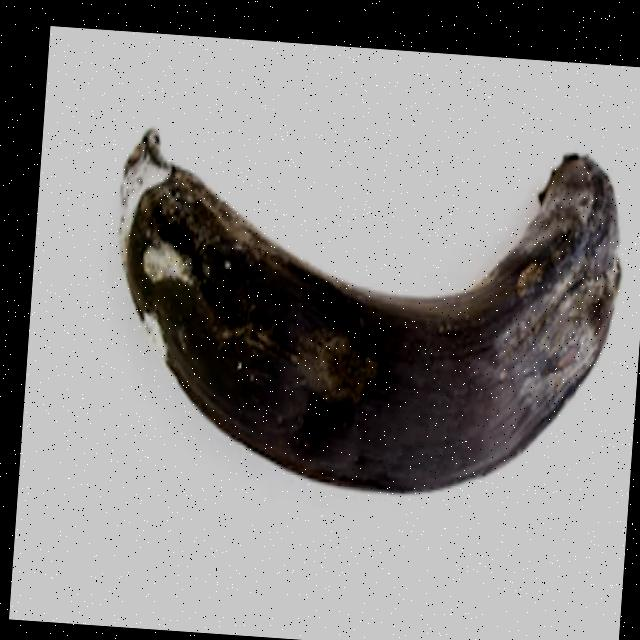Rotten: (94, 87, 638, 517)
